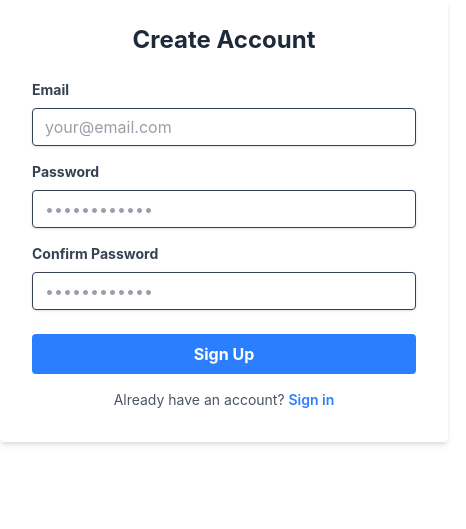
it: RegisterForm › shows error when submitting empty form
This screenshot has width=466, height=529.
Click the button "Sign Up" at (224,354), box [32, 334, 416, 374]
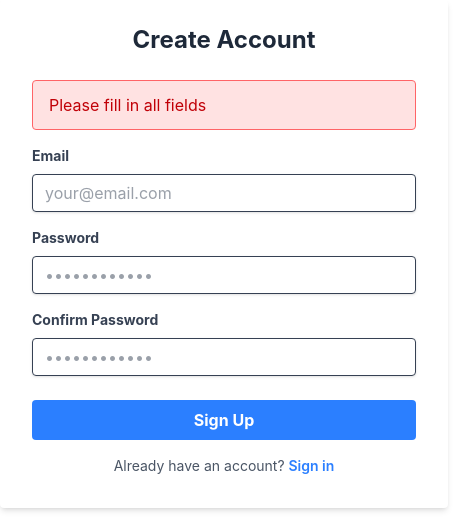
Result: the text "Please fill in all fields" is shown at [32, 80, 416, 130]
